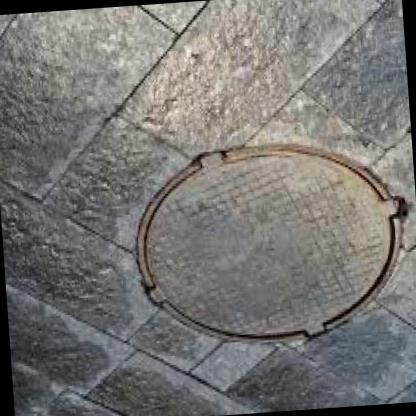manholes: (109, 109, 416, 369)
